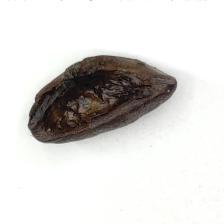NG: (29, 62, 150, 138)
